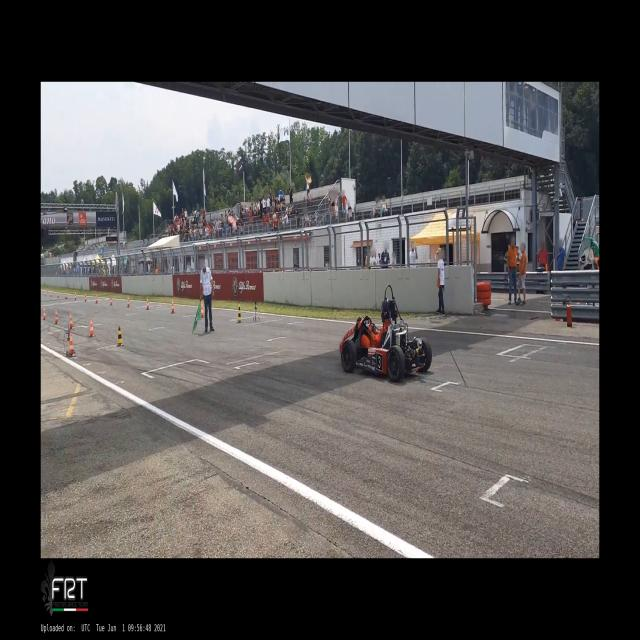large_orange_cone: (68, 333, 76, 357), (89, 318, 96, 337), (170, 298, 176, 314), (69, 312, 74, 329), (146, 297, 150, 310), (126, 296, 130, 308), (202, 301, 204, 318)
unknown_cone: (116, 323, 125, 346), (236, 304, 243, 324)
